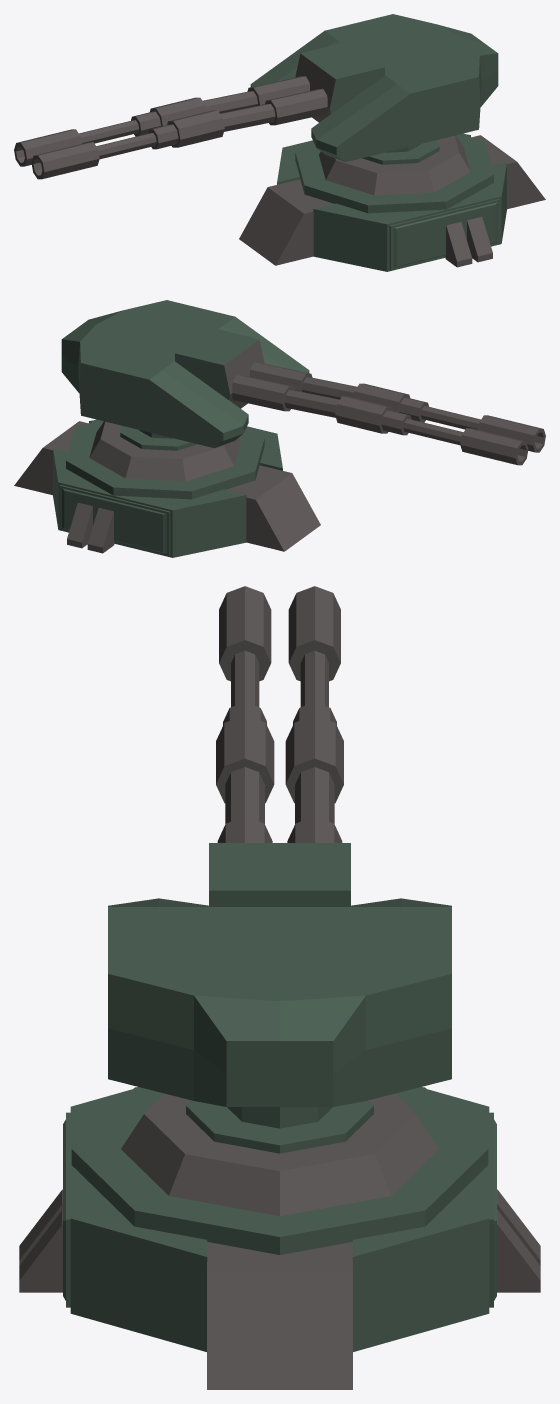
The model's file is torreta.fbx.
The picture shows the model from 3 angles, top to bottom: view 1: azimuth 30°, elevation 25°; view 2: azimuth 150°, elevation 25°; view 3: azimuth 270°, elevation 25°; orthographic projection. The views are drawn at different scales.
Visible parts, largest first — view 1: Cube.014, Cylinder, Cube.016, Cube.010, Cube.011, Cube.015, Cube.013, Cube.012; view 2: Cube.014, Cylinder, Cube.016, Cube.010, Cube.011, Cube.015, Cube.013, Cube.012; view 3: Cube.014, Cube.016, Cube.010, Cylinder, Cube.011, Cube.015, Cube.012, Cube.013.
Part boxes in pixels (x1,y1,x2,y2): Cube.014: [250, 14, 498, 162]; Cylinder: [14, 76, 327, 179]; Cube.016: [295, 134, 493, 213]; Cube.010: [277, 133, 506, 271]; Cube.011: [239, 135, 545, 265]; Cube.015: [295, 41, 384, 122]; Cube.013: [445, 222, 472, 267]; Cube.012: [467, 216, 492, 262]; Cube.014: [61, 300, 309, 448]; Cylinder: [232, 362, 545, 465]; Cube.016: [66, 420, 264, 499]; Cube.010: [53, 419, 282, 557]; Cube.011: [14, 421, 320, 551]; Cube.015: [175, 327, 264, 408]; Cube.013: [87, 508, 114, 553]; Cube.012: [67, 502, 92, 548]; Cube.014: [108, 898, 451, 1106]; Cube.016: [71, 1087, 488, 1254]; Cube.010: [63, 1089, 496, 1351]; Cylinder: [216, 586, 343, 842]; Cube.011: [207, 1242, 352, 1389]; Cube.015: [209, 843, 350, 906]; Cube.012: [19, 1210, 540, 1292]; Cube.013: [19, 1189, 540, 1265].
Bounding box in the file's own units: 1302 × 428 × 590.
